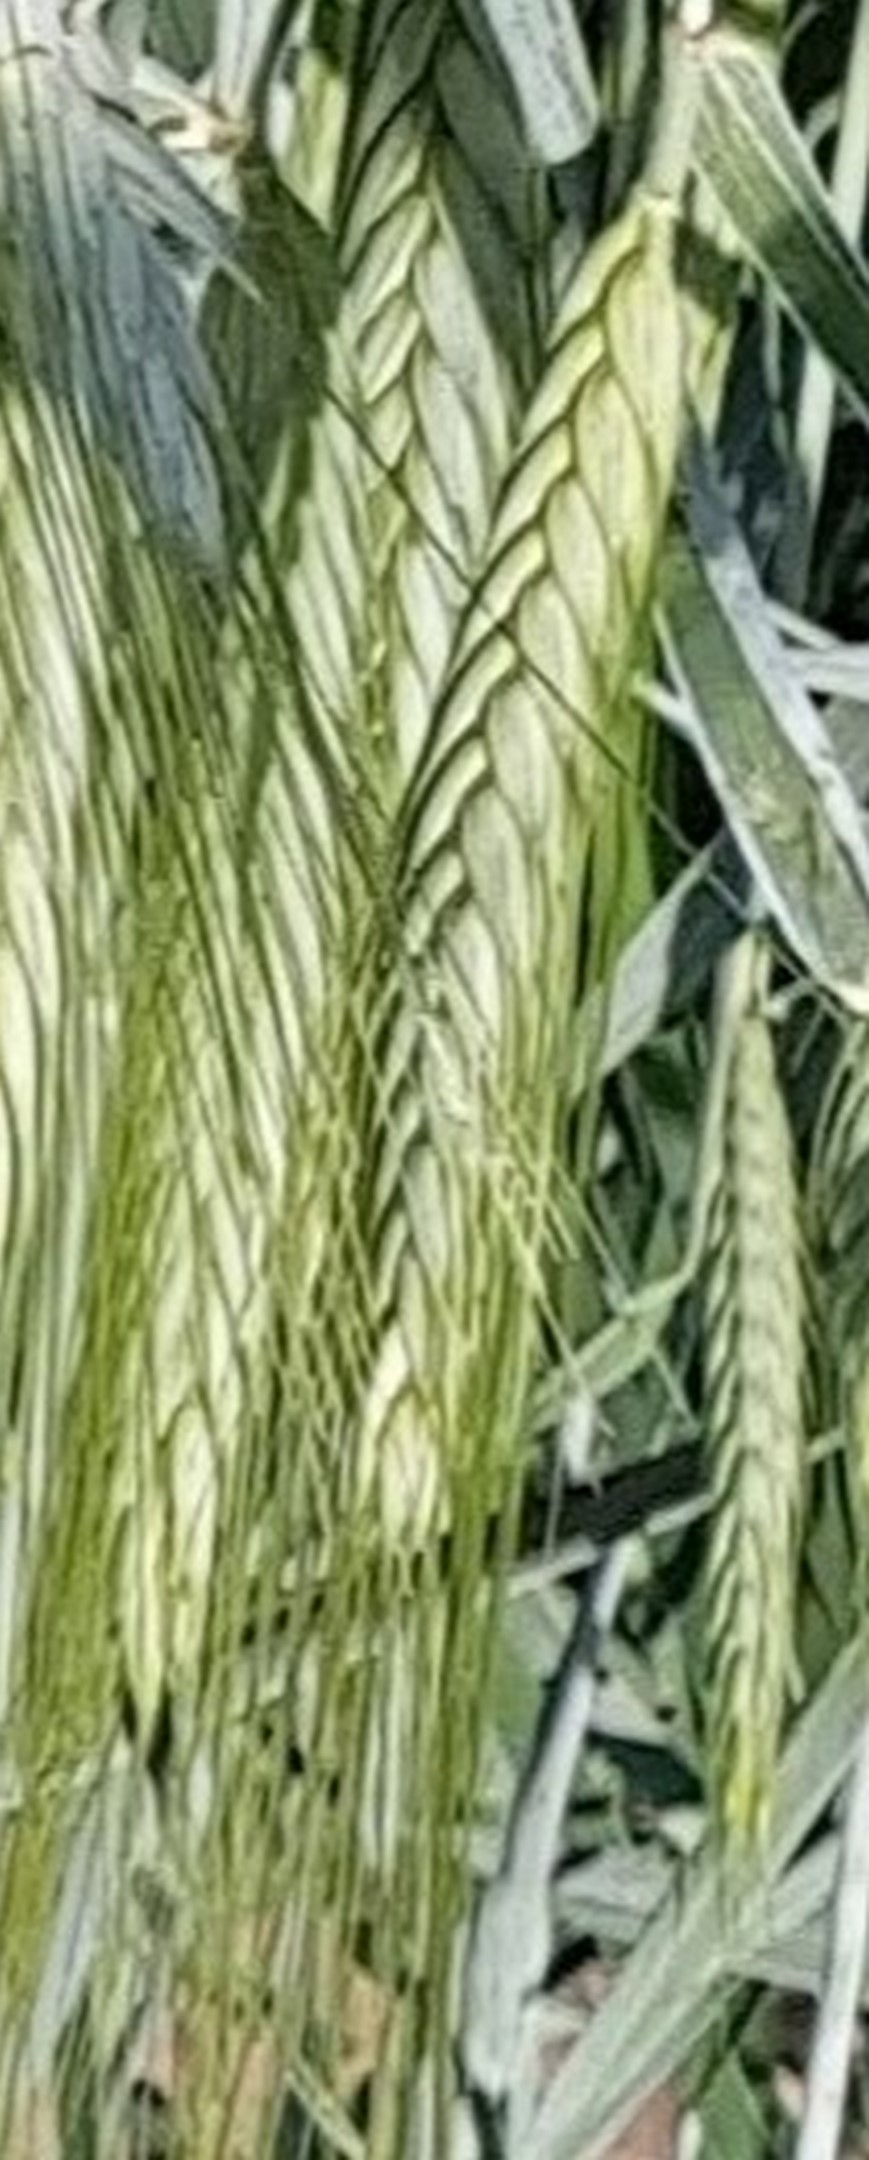Healthy Wheat: (342, 231, 764, 1482)
